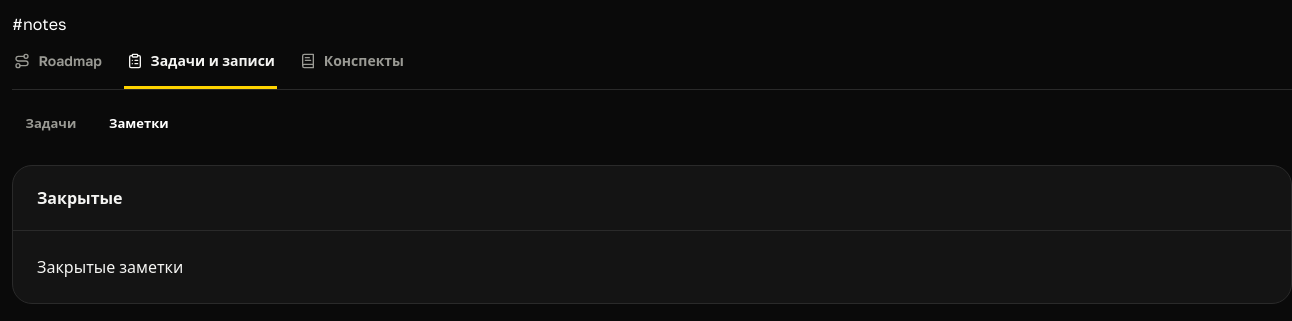
Scenario: student detail navigation › keeps old workspace links: #notes opens private notes, meeting notes live under #meeting-notes
This screenshot has width=1292, height=321.
Expected: the text "Закрытые заметки" is shown, [37,257,183,277]
Step 1. Click the tab "Конспекты" → point(352, 62), box [297,36,406,89]
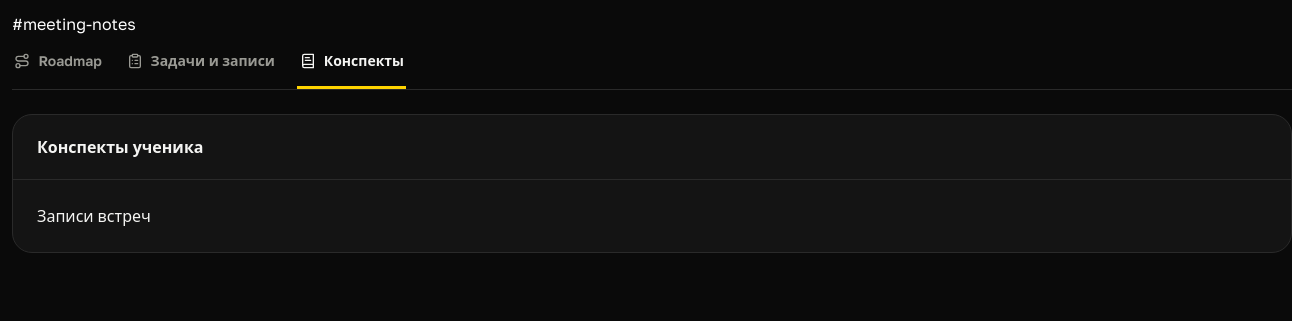
Expected: the text "Записи встреч" is shown, [37,206,151,226]
Expected: the text with test id "address" reads "#meeting-notes", [12,14,136,34]
